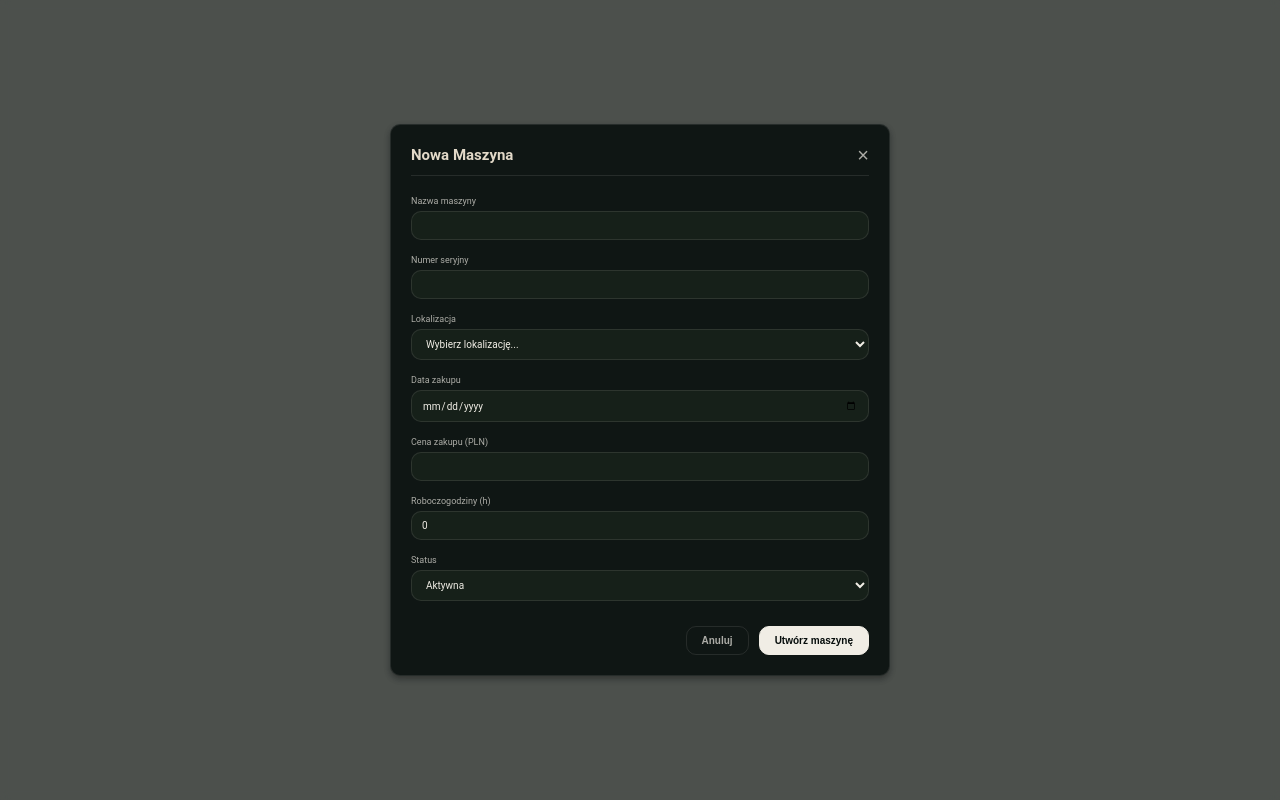
Test: AddMachineModal › wysyłanie formularza › wyświetla Tworzenie... podczas wysyłania
This screenshot has width=1280, height=800.
Step 1. Type "Tokarka" into the field labelled "Nazwa maszyny" → x=640, y=226, box [411,211,869,240]
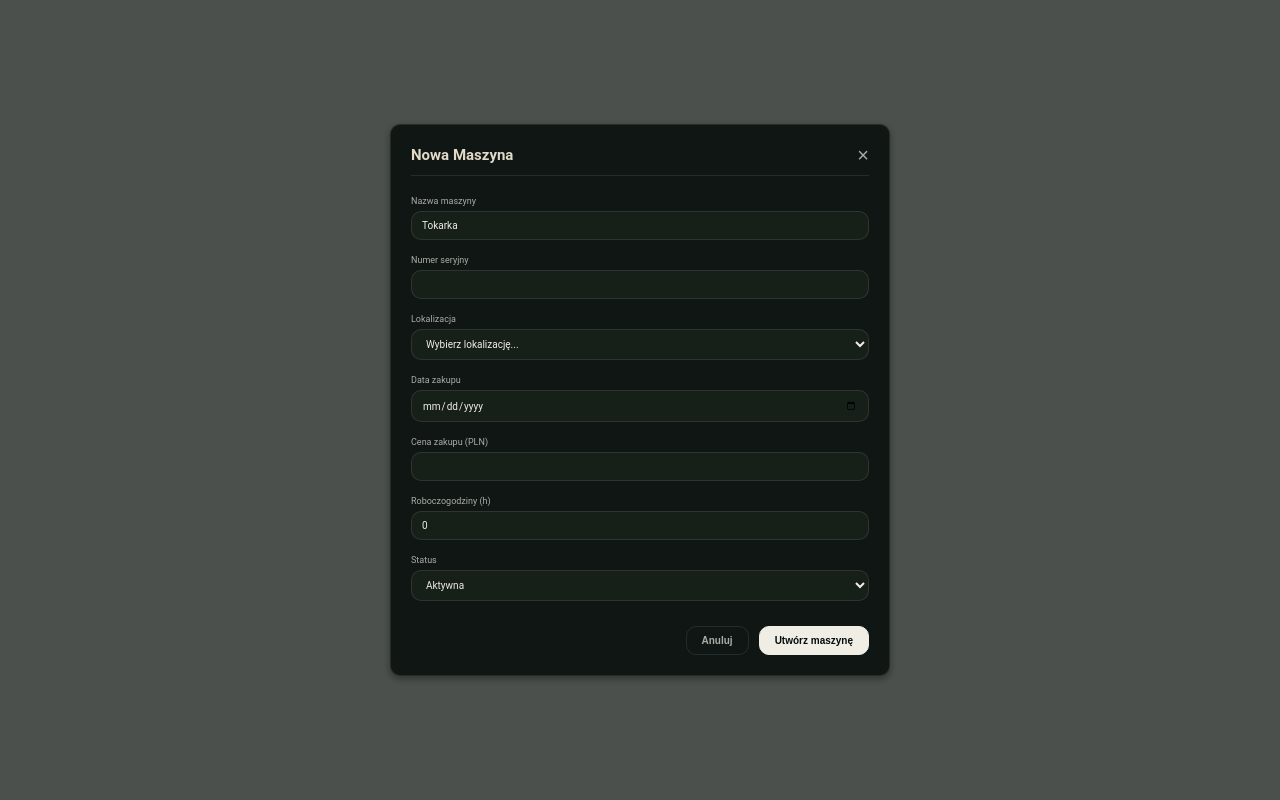
Step 2. Type "SN-NEW" into the field labelled "Numer seryjny" → x=640, y=284, box [411,270,869,299]
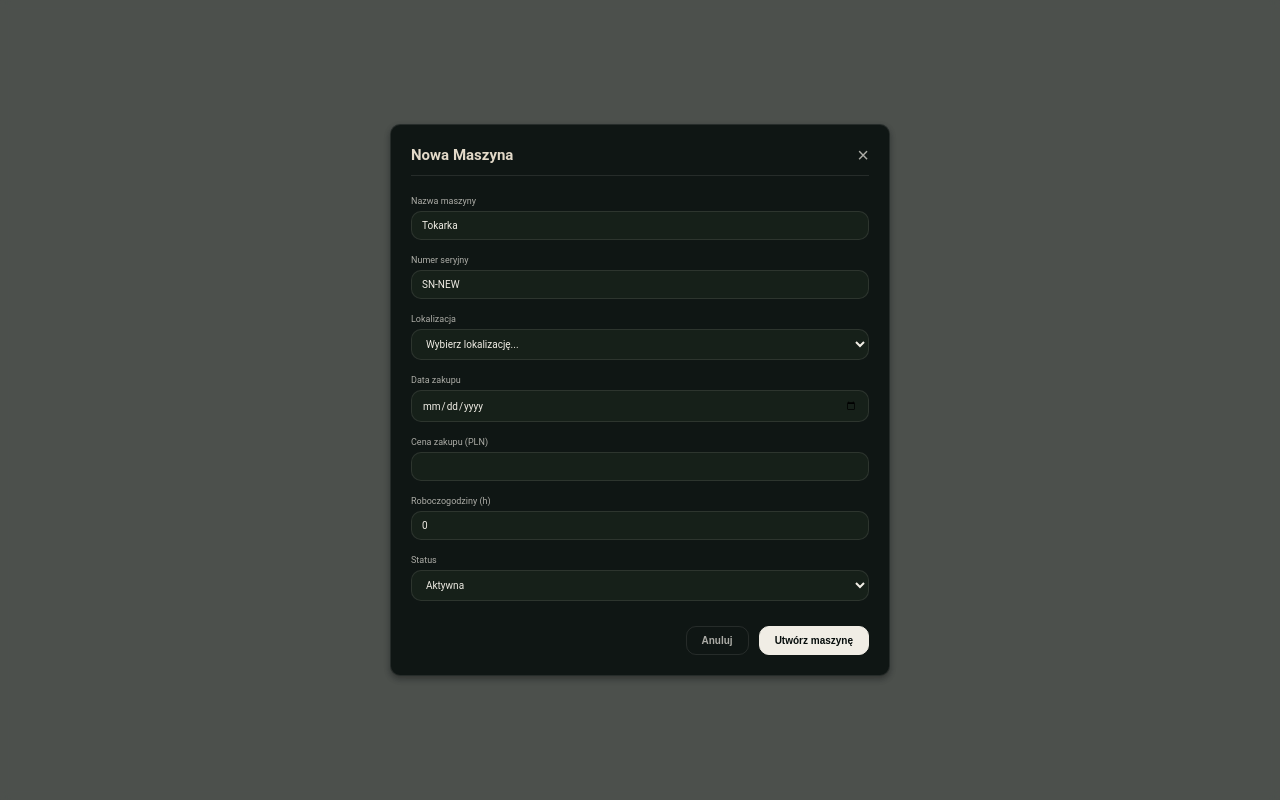
Step 3. Type "2024-01-01" into the date field labelled "Data zakupu" → x=640, y=406, box [411,390,869,422]
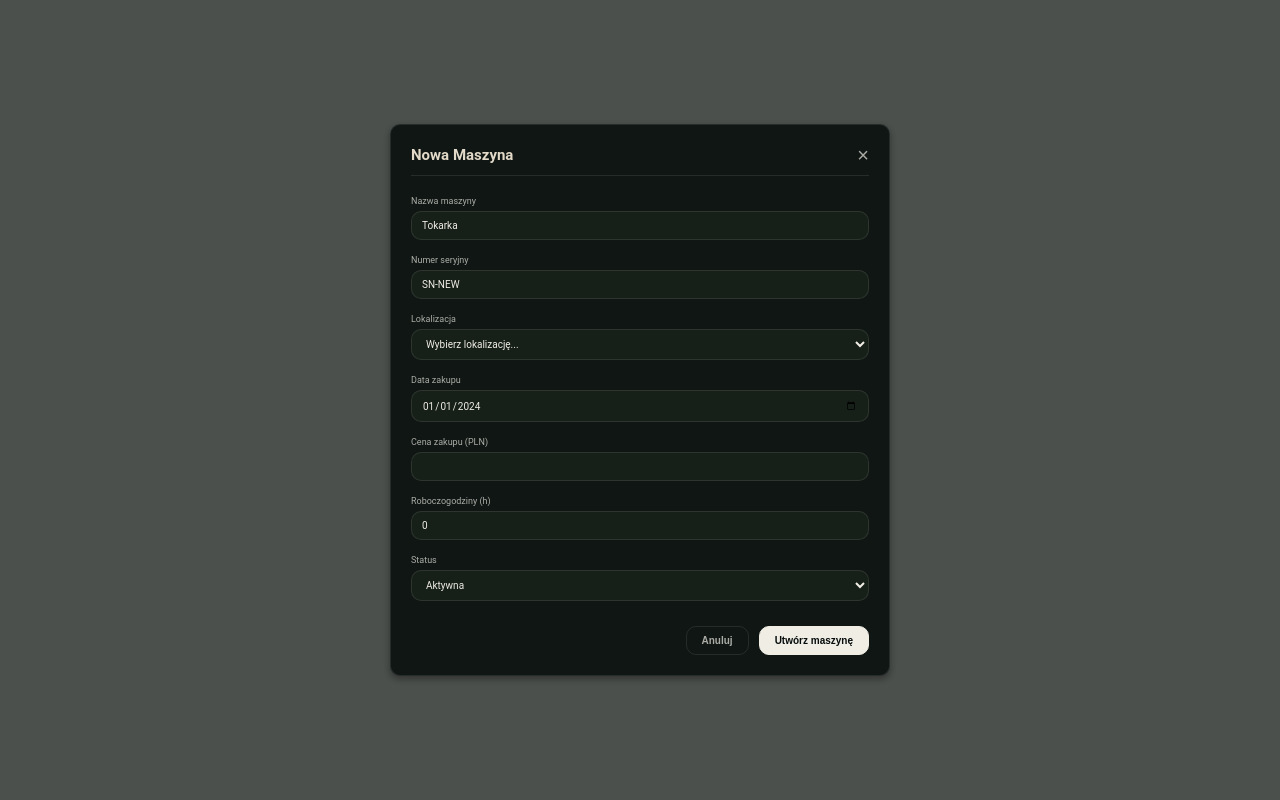
Step 4. Type "10000" into the number field labelled "Cena zakupu (PLN)" → x=640, y=466, box [411,452,869,481]
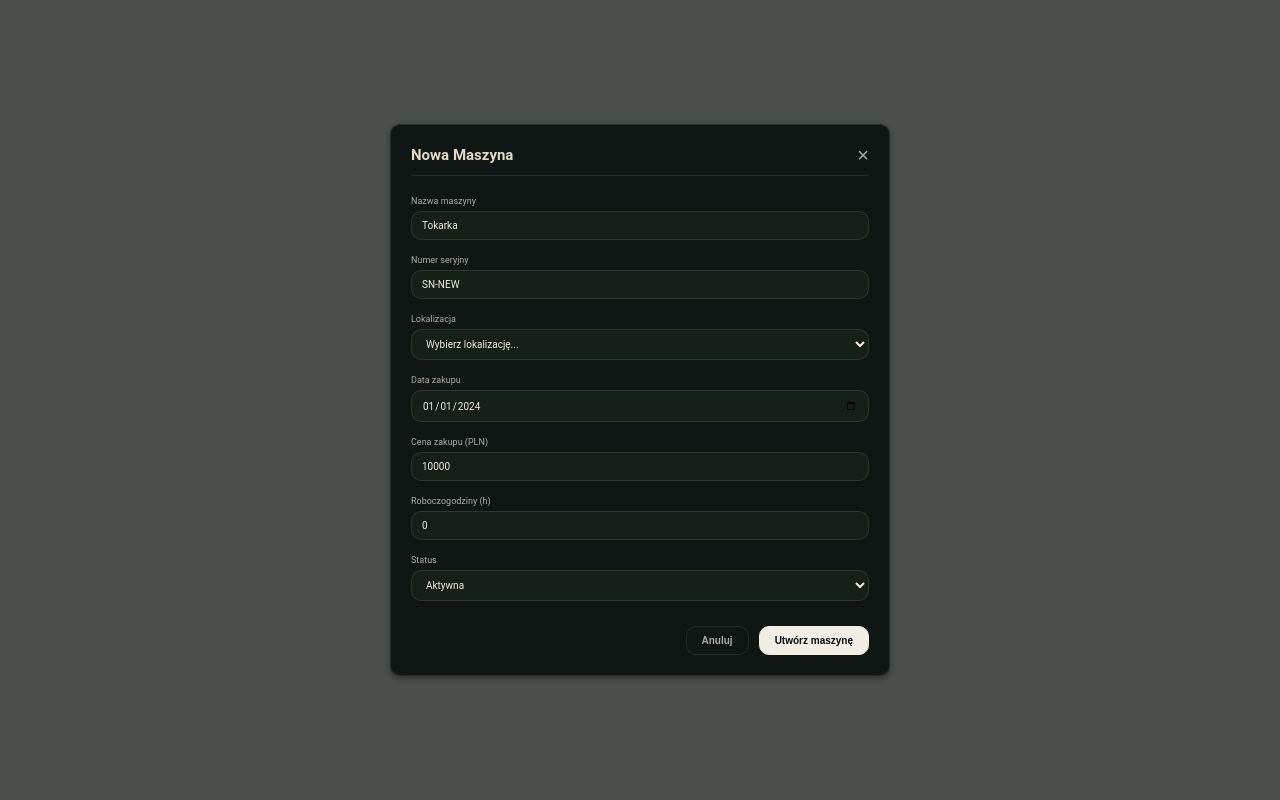
Step 5. Submit the form named "Utwórz maszynę", box [411,196,869,655]
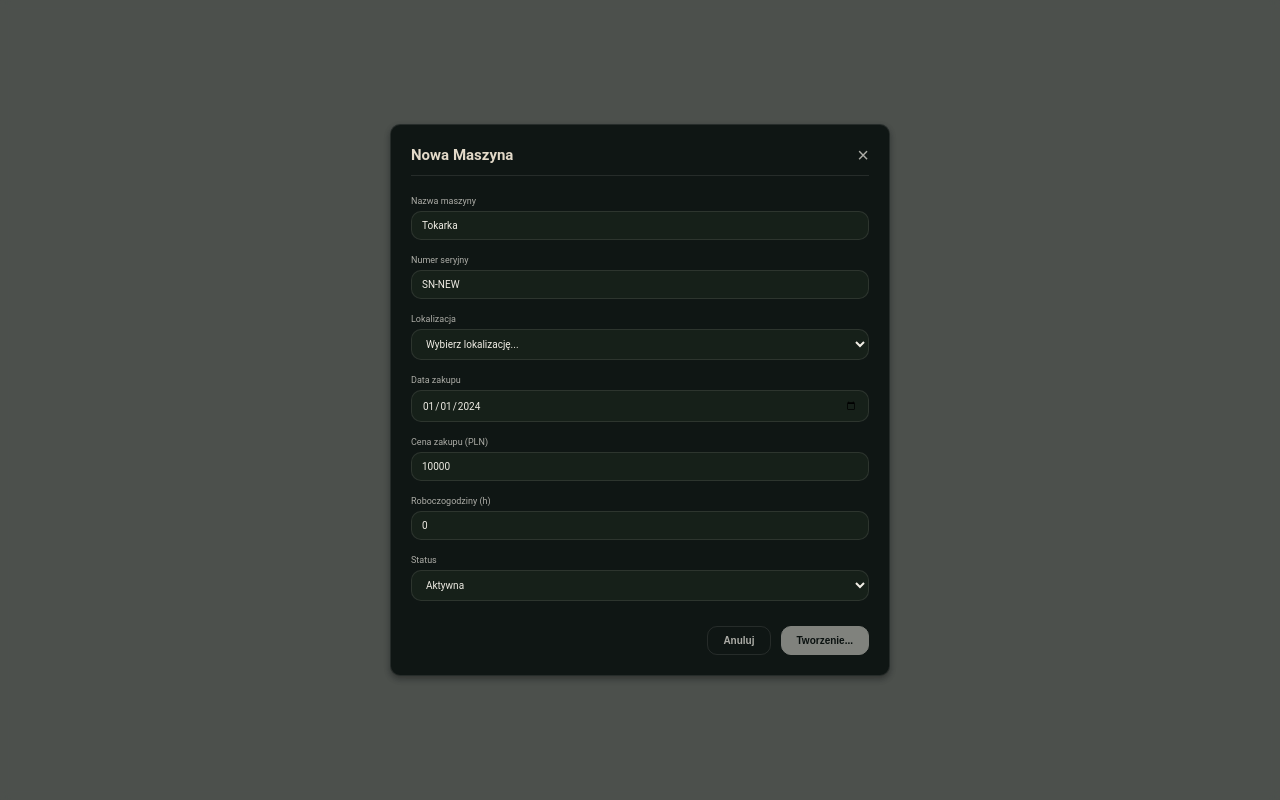
Now the button "Tworzenie..." is disabled, box [780,626,869,655]
